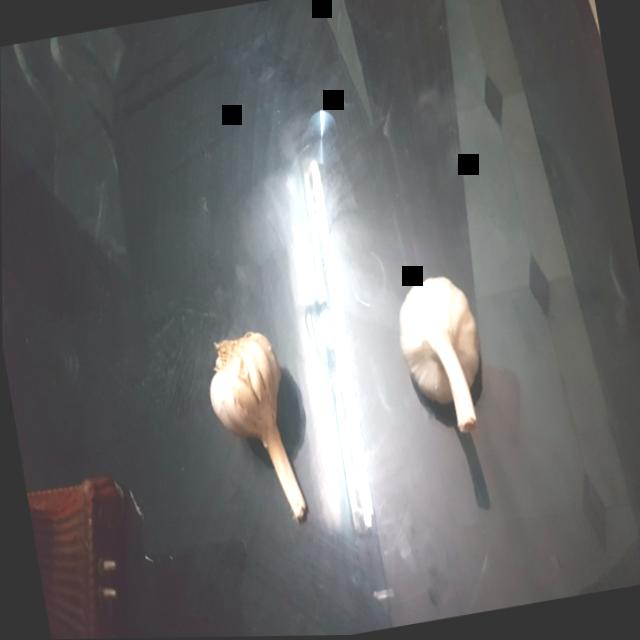garlic: (190, 322, 329, 538), (388, 262, 516, 447)
